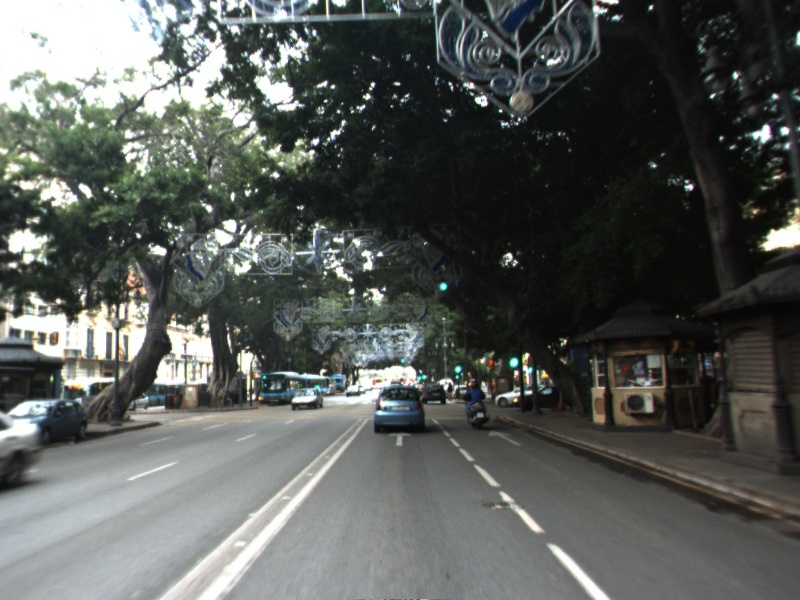STRAIGHT: (486, 428, 524, 448), (386, 431, 413, 448)
